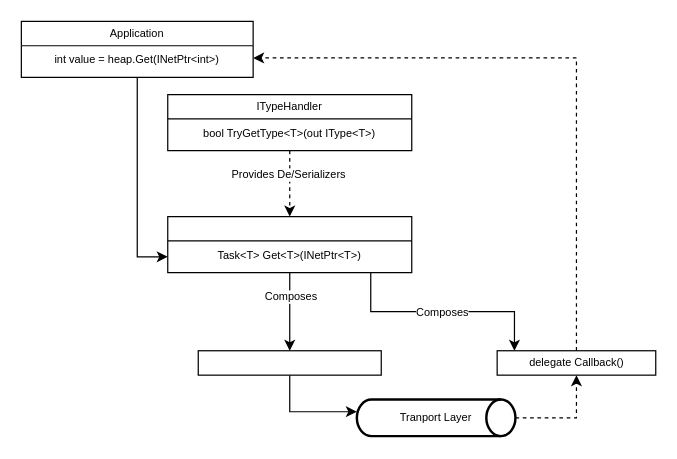
This 677x459 diagram has some shape labels left out. The box of each missing label's shape, as (x1, y1, x2, y2) in pixels:
IRemoteHeap: (167, 215, 412, 273)
Packet : IPacketSerializable: (197, 350, 381, 375)
